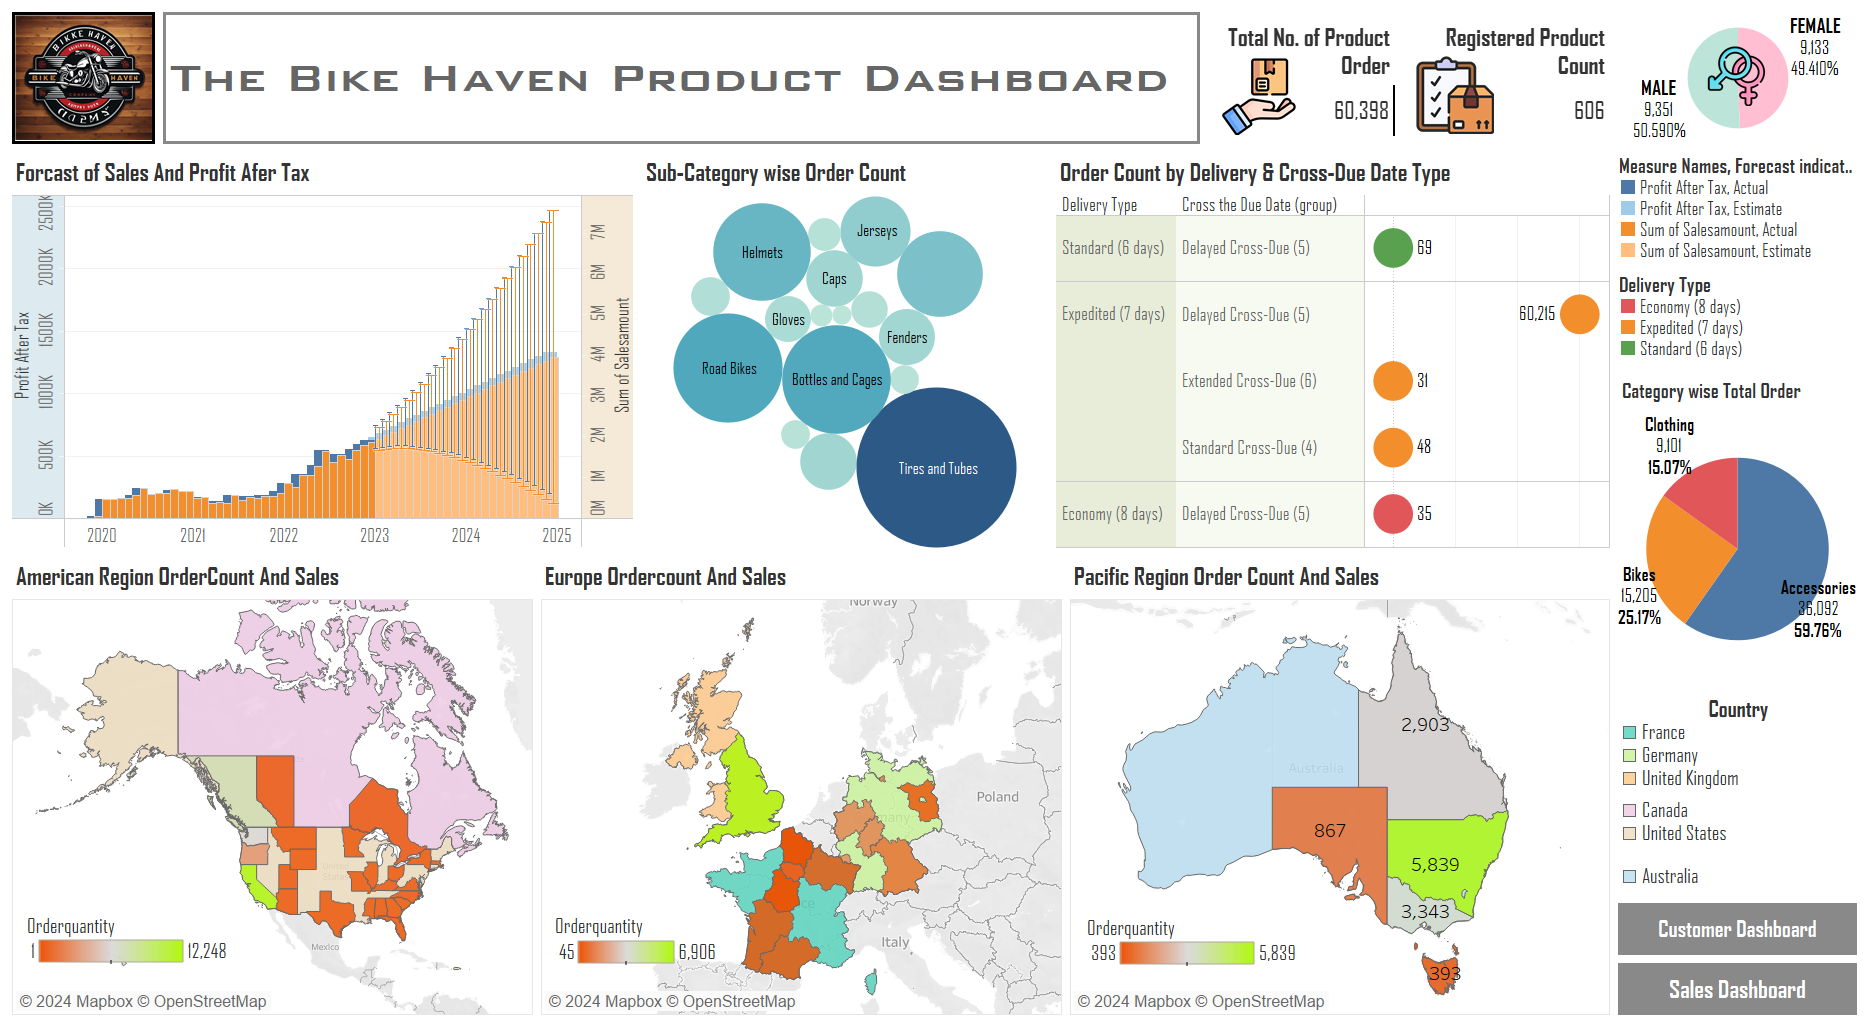

The dashboard page shown, as its layout file describes it:
{"tool":"tableau","page":{"name":"Product DashBoard","canvas":[1000,1000],"units":"permille","ordinal":1},"visuals":[{"type":"dashboard-object","box":[4.7,10,80.7,135.7]},{"type":"text","box":[85.4,10,555.1,135.7]},{"type":"worksheet","title":"Gender","mark":"Pie","box":[863.9,10,131.4,135.7]},{"type":"worksheet","title":"KPI(Product)","mark":"Automatic","box":[631.1,16.2,227.5,129.3]},{"type":"image","param":"Image/Gender.png","box":[911.2,44.8,35.3,58.4]},{"type":"image","param":"Image/checklist.png","box":[757.6,54.5,41.7,76.9]},{"type":"image","param":"Image/delivery-box.png","box":[646.9,56.5,53.5,75]},{"type":"worksheet","title":"Forcast of Sales And Profit Afer Tax","mark":"Bar","rows":["Calculation_1449596131087171584","salesamount"],"cols":["orderdate"],"box":[4.7,145.7,336.8,391.2]},{"type":"worksheet","title":"Sub-Category wise Order Count","mark":"Circle","box":[341.5,145.7,221.3,391.2]},{"type":"worksheet","title":"Delivery Time","mark":"Pie","cols":["salesordernumber"],"box":[562.8,145.7,300.4,391.2]},{"type":"legend","title":"Forcast of Sales And Profit Afer Tax","param":"[federated.0kbmwvk0wkv6iw1gvr4tc1mcakxt].[:Measure Names]\n[federated.0kbmwvk0wkv","box":[863.2,145.7,132.1,148]},{"type":"legend","title":"Delivery Time","param":"[federated.0kbmwvk0wkv6iw1gvr4tc1mcakxt].[Delivery Time  (group)]","box":[863.2,293.7,132.1,126.9]},{"type":"worksheet","title":"Category wise Total Order","mark":"Pie","box":[863.2,420.5,132.1,160.3]},{"type":"worksheet","title":"American Region OrderCount And Sales","mark":"Multipolygon","box":[4.7,536.8,282.7,453.2]},{"type":"worksheet","title":"Europe Ordercount And Sales","mark":"Multipolygon","box":[287.4,536.8,282.7,453.2]},{"type":"worksheet","title":"Pacific Region Order Count And Sales","mark":"Multipolygon","box":[570.1,536.8,293.1,453.2]},{"type":"legend","title":"Europe Ordercount And Sales","param":"[federated.0kbmwvk0wkv6iw1gvr4tc1mcakxt].[none:Country/Region:nk]","box":[863.2,580.8,132.1,130.6]},{"type":"legend","title":"American Region OrderCount And Sales","param":"[federated.0kbmwvk0wkv6iw1gvr4tc1mcakxt].[none:Country/Region:nk]","box":[863.2,711.4,132.1,82.1]},{"type":"legend","title":"Pacific Region Order Count And Sales","param":"[federated.0kbmwvk0wkv6iw1gvr4tc1mcakxt].[none:Country/Region:nk]","box":[863.2,793.5,132.1,47.3]},{"type":"dashboard-object","box":[863.2,840.8,132.1,74.6]},{"type":"legend","title":"Europe Ordercount And Sales","param":"[federated.0kbmwvk0wkv6iw1gvr4tc1mcakxt].[sum:orderquantity:qk]","box":[296.9,885.1,88.8,55.5]},{"type":"legend","title":"American Region OrderCount And Sales","param":"[federated.0kbmwvk0wkv6iw1gvr4tc1mcakxt].[sum:orderquantity:qk]","box":[14.5,887.1,109.7,54.5]},{"type":"legend","title":"Pacific Region Order Count And Sales","param":"[federated.0kbmwvk0wkv6iw1gvr4tc1mcakxt].[sum:orderquantity:qk]","box":[581.6,889,114.5,70.1]},{"type":"dashboard-object","box":[863.2,915.4,132.1,74.6]}]}

Visuals, with their boxes on the dashboard's canvas, which has no fixed pixel size, in thousandths of its width and height (x1, y1, x2, y2). These are canvas units, not pixel positions in the 1869x1027 screenshot, which may show the page scaled, cropped or inside an application window:
dashboard-object: [x1=5, y1=10, x2=85, y2=146]
text: [x1=85, y1=10, x2=640, y2=146]
"Gender" worksheet (Pie marks): [x1=864, y1=10, x2=995, y2=146]
"KPI(Product)" worksheet: [x1=631, y1=16, x2=859, y2=146]
image: [x1=911, y1=45, x2=946, y2=103]
image: [x1=758, y1=54, x2=799, y2=131]
image: [x1=647, y1=56, x2=700, y2=132]
"Forcast of Sales And Profit Afer Tax" worksheet (Bar marks): [x1=5, y1=146, x2=342, y2=537]
"Sub-Category wise Order Count" worksheet (Circle marks): [x1=342, y1=146, x2=563, y2=537]
"Delivery Time" worksheet (Pie marks): [x1=563, y1=146, x2=863, y2=537]
"Forcast of Sales And Profit Afer Tax" legend: [x1=863, y1=146, x2=995, y2=294]
"Delivery Time" legend: [x1=863, y1=294, x2=995, y2=421]
"Category wise Total Order" worksheet (Pie marks): [x1=863, y1=420, x2=995, y2=581]
"American Region OrderCount And Sales" worksheet (Multipolygon marks): [x1=5, y1=537, x2=287, y2=990]
"Europe Ordercount And Sales" worksheet (Multipolygon marks): [x1=287, y1=537, x2=570, y2=990]
"Pacific Region Order Count And Sales" worksheet (Multipolygon marks): [x1=570, y1=537, x2=863, y2=990]
"Europe Ordercount And Sales" legend: [x1=863, y1=581, x2=995, y2=711]
"American Region OrderCount And Sales" legend: [x1=863, y1=711, x2=995, y2=794]
"Pacific Region Order Count And Sales" legend: [x1=863, y1=794, x2=995, y2=841]
dashboard-object: [x1=863, y1=841, x2=995, y2=915]
"Europe Ordercount And Sales" legend: [x1=297, y1=885, x2=386, y2=941]
"American Region OrderCount And Sales" legend: [x1=14, y1=887, x2=124, y2=942]
"Pacific Region Order Count And Sales" legend: [x1=582, y1=889, x2=696, y2=959]
dashboard-object: [x1=863, y1=915, x2=995, y2=990]
